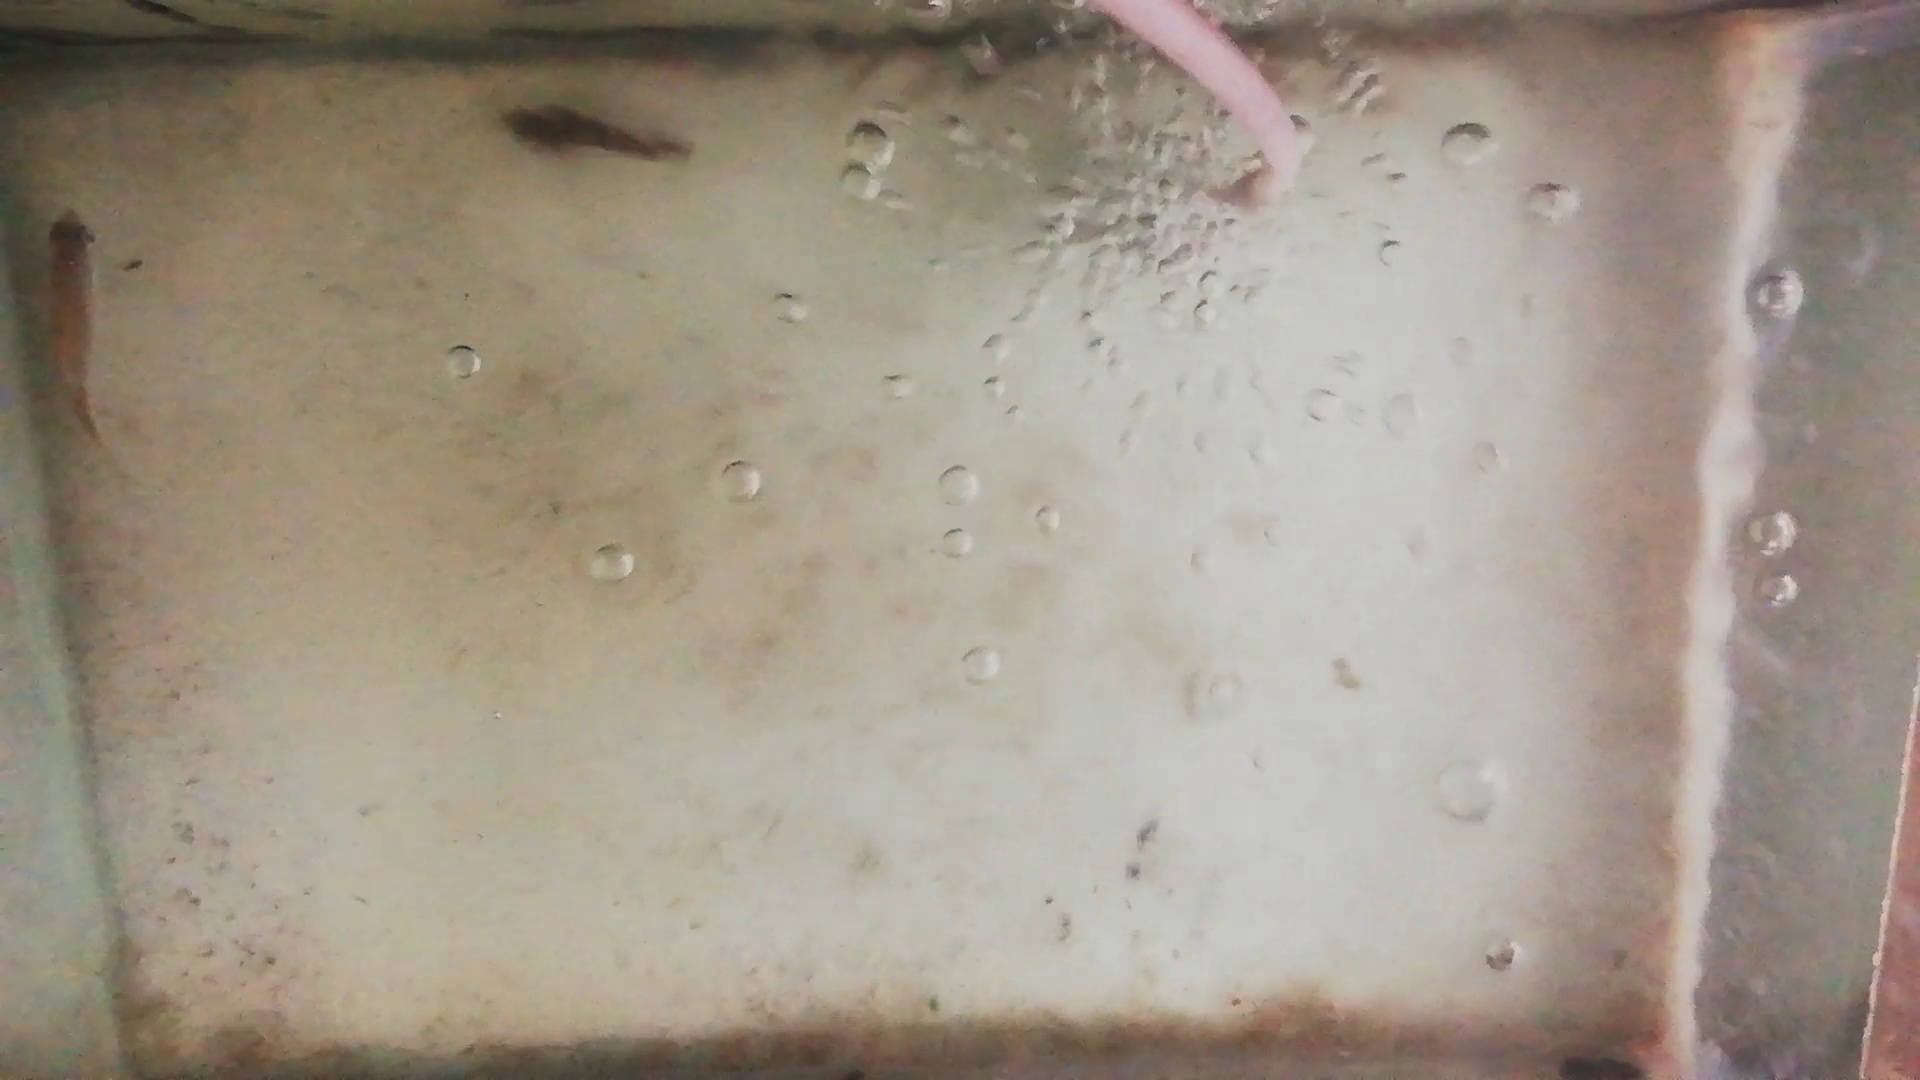fish: (45, 204, 109, 446), (497, 104, 688, 162)
